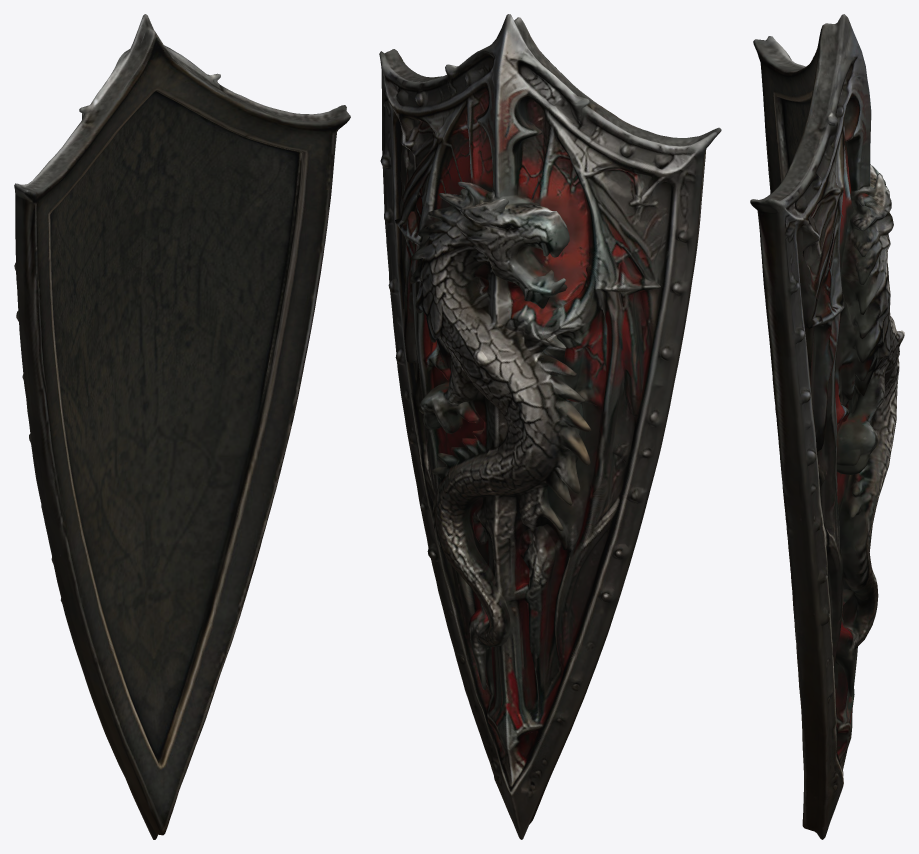
Rendered from kite_cinderdrake.glb.
3 views of the same model, side by side, from view 1: azimuth 30°, elevation 25°; view 2: azimuth 150°, elevation 25°; view 3: azimuth 270°, elevation 25° (orthographic).
Parts seen in each view (by area): view 1: kite_cinderdrake; view 2: kite_cinderdrake; view 3: kite_cinderdrake.
Part boxes in pixels (x1=…): kite_cinderdrake: x1=14, y1=14, x2=350, y2=839; kite_cinderdrake: x1=379, y1=14, x2=721, y2=839; kite_cinderdrake: x1=750, y1=14, x2=904, y2=839.
Size of the model in its own units: 0.374 by 0.8823 by 0.1495.
1 material, 1 textured.
